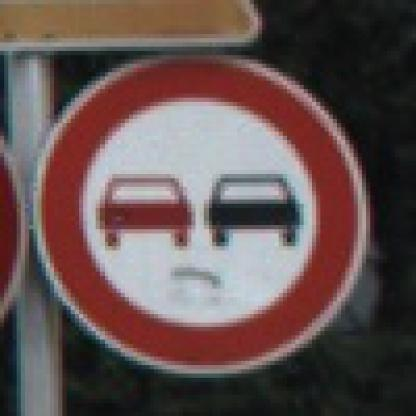No Overtaking: (39, 35, 380, 379)
